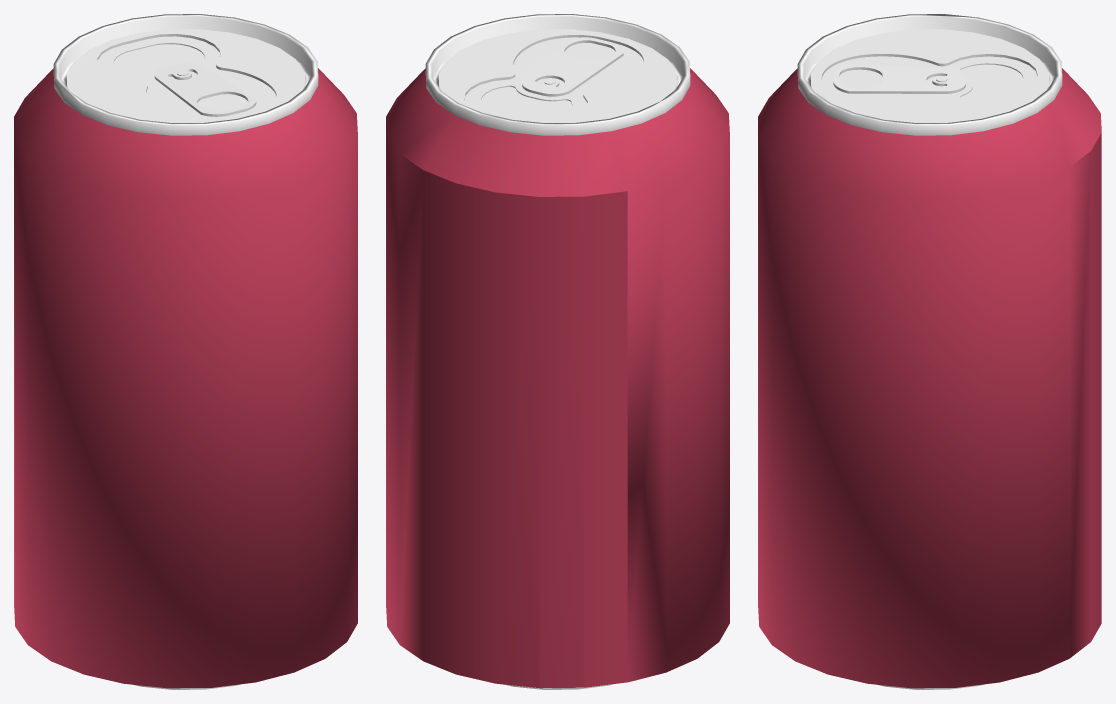
File: coke_can.obj
3 views of the same model, side by side, from view 1: azimuth 30°, elevation 25°; view 2: azimuth 150°, elevation 25°; view 3: azimuth 270°, elevation 25° (orthographic).
Visible parts, largest first — view 1: Mesh1 Group1 Model, Mesh2 Group1 Model; view 2: Mesh1 Group1 Model, Mesh2 Group1 Model; view 3: Mesh1 Group1 Model, Mesh2 Group1 Model.
Boxes of the visible parts, x1,y1,x2,y2 form: Mesh1 Group1 Model: (14,14,357,689); Mesh2 Group1 Model: (154,63,256,116); Mesh1 Group1 Model: (386,14,729,689); Mesh2 Group1 Model: (522,37,623,96); Mesh1 Group1 Model: (758,14,1101,689); Mesh2 Group1 Model: (833,64,965,93).
Bounding box in the file's own units: 2.8 × 5.1 × 2.8.
